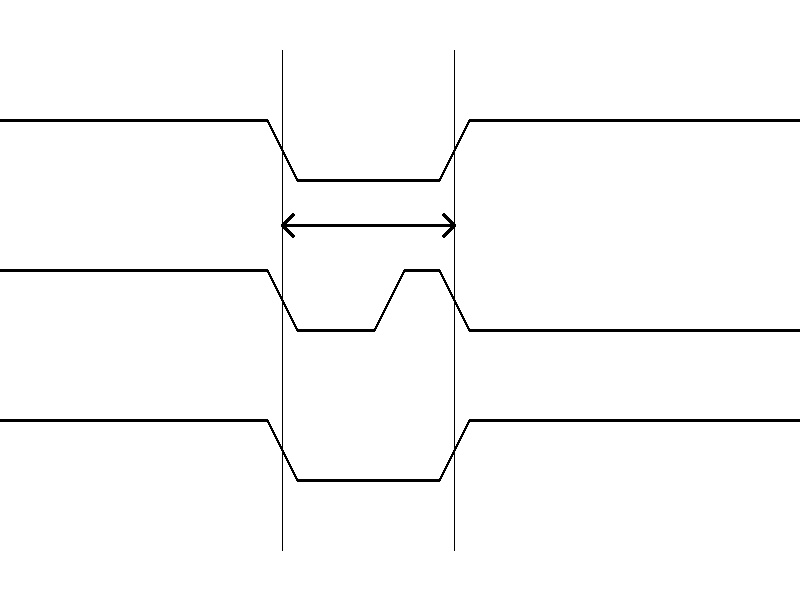double_arrow: (282, 210, 454, 240)
